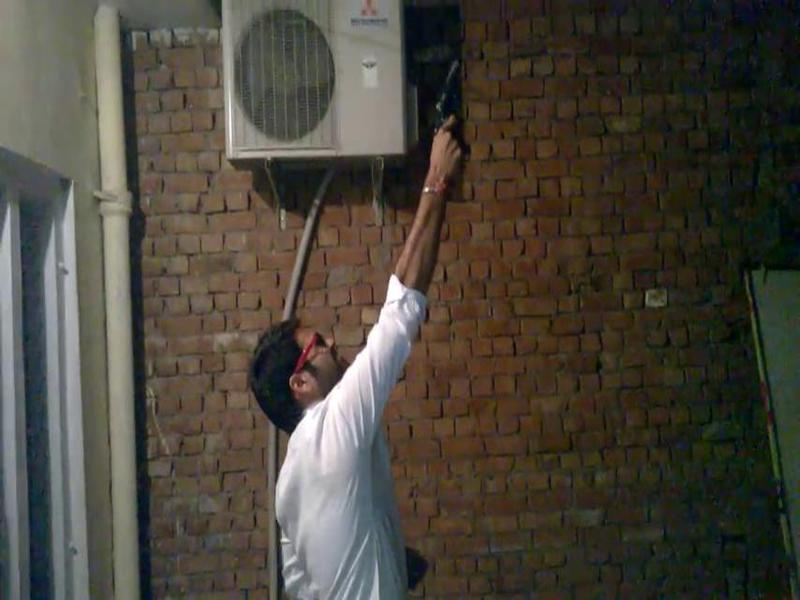Revolver: (429, 50, 490, 169)
